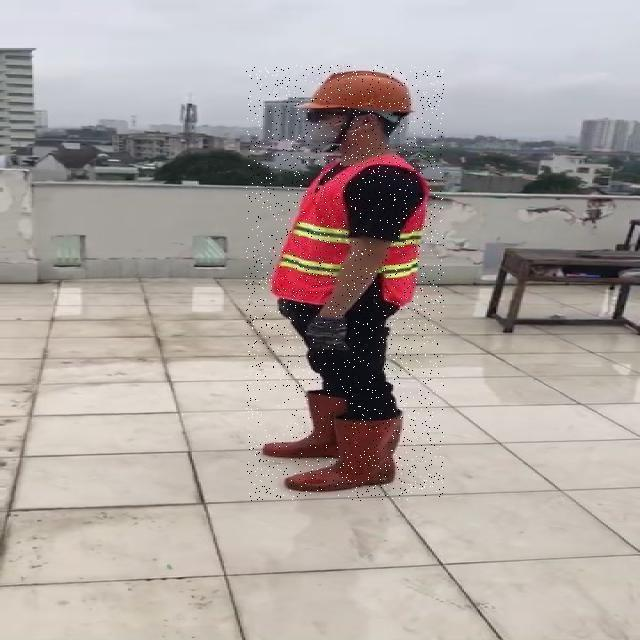goggles: (305, 318, 347, 353), (306, 111, 375, 123)
helmet: (300, 69, 418, 112)
safety_vest: (272, 154, 430, 304)
